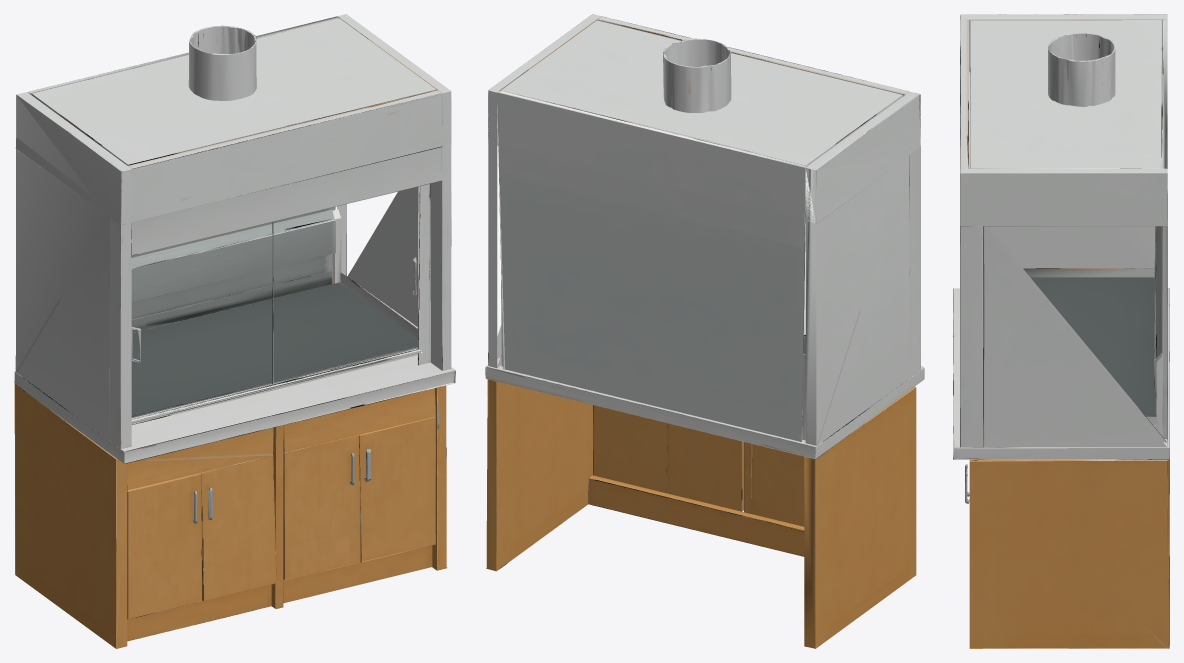
Rendered from FumeHoodCabinet.glb.
3 views of the same model, side by side, from view 1: azimuth 30°, elevation 25°; view 2: azimuth 150°, elevation 25°; view 3: azimuth 270°, elevation 25° (orthographic).
Parts seen in each view (by area): view 1: geometry_0; view 2: geometry_0; view 3: geometry_0.
Part boxes in pixels (<box>): geometry_0: <box>14,14,456,648</box>; geometry_0: <box>485,14,924,648</box>; geometry_0: <box>953,14,1169,648</box>.
Bounding box in the file's own units: 0.627 × 0.9507 × 0.3589.
1 material, 1 textured.
